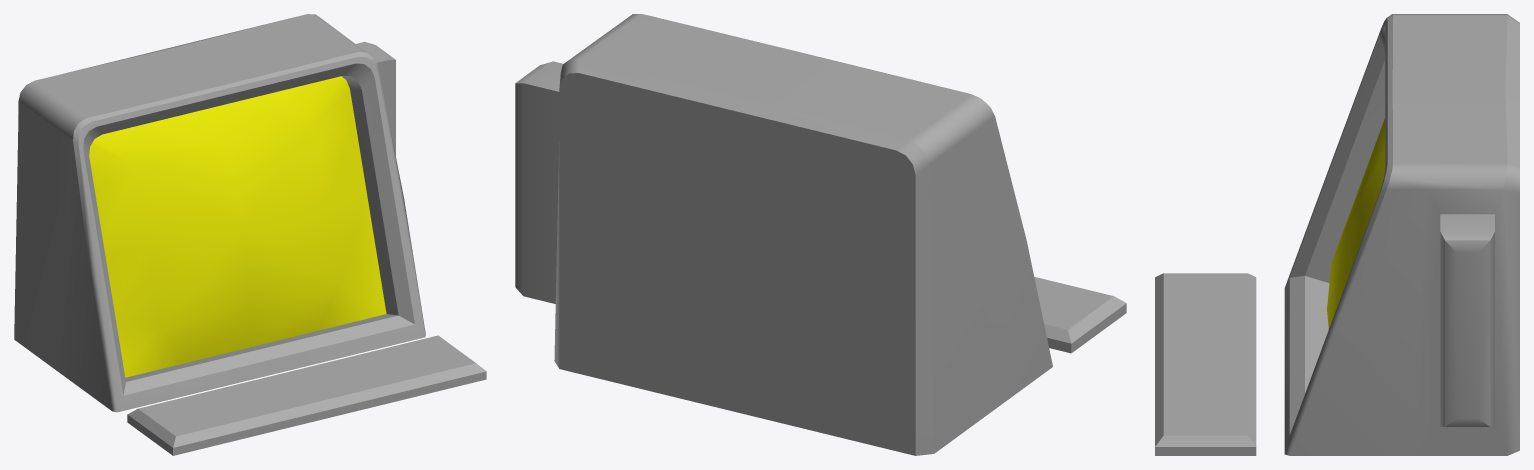
Rendered from Screen_Desk.fbx.
3 renders of one model, left to right at view 1: azimuth 30°, elevation 25°; view 2: azimuth 150°, elevation 25°; view 3: azimuth 270°, elevation 25°, orthographic. The views are drawn at different scales.
Parts seen in each view (by area): view 1: Desk_comp; view 2: Desk_comp; view 3: Desk_comp.
Part boxes in pixels (left/top/right/bottom): Desk_comp: left=14, top=14, right=486, bottom=455; Desk_comp: left=515, top=14, right=1126, bottom=455; Desk_comp: left=1155, top=14, right=1519, bottom=455.
Size of the model in its own units: 1.19 by 0.8065 by 0.9471.
